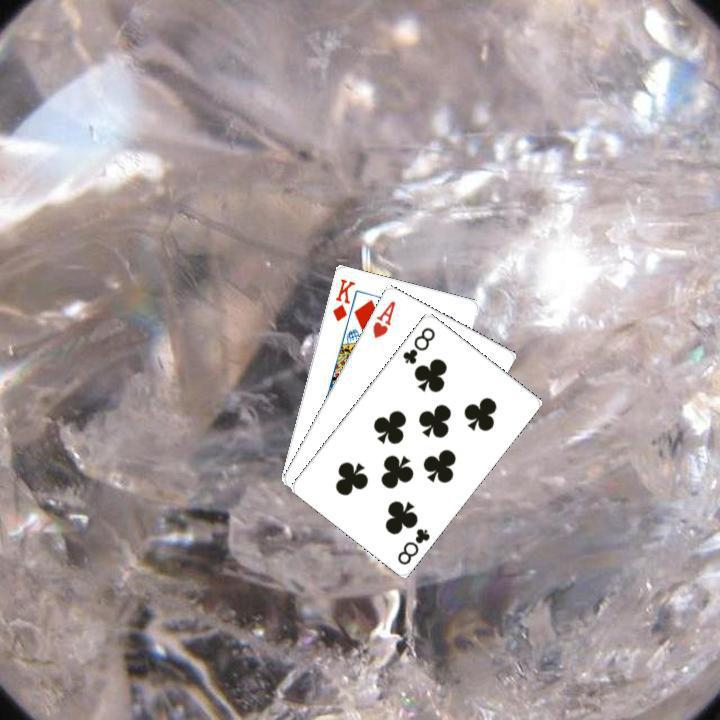8: (398, 322, 437, 366), (393, 523, 432, 566)
A: (368, 296, 397, 340)
K: (328, 274, 357, 323)
